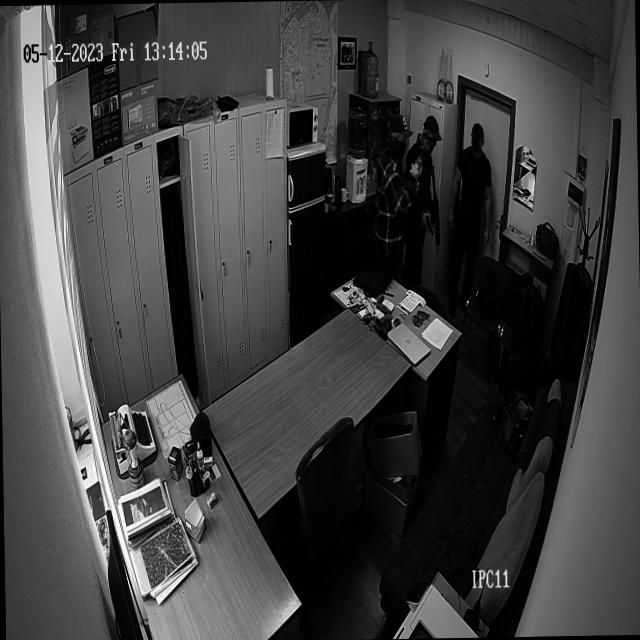gun: (428, 164, 442, 253)
person: (368, 109, 422, 268), (445, 118, 495, 256)
person with a gun: (406, 113, 442, 282)
